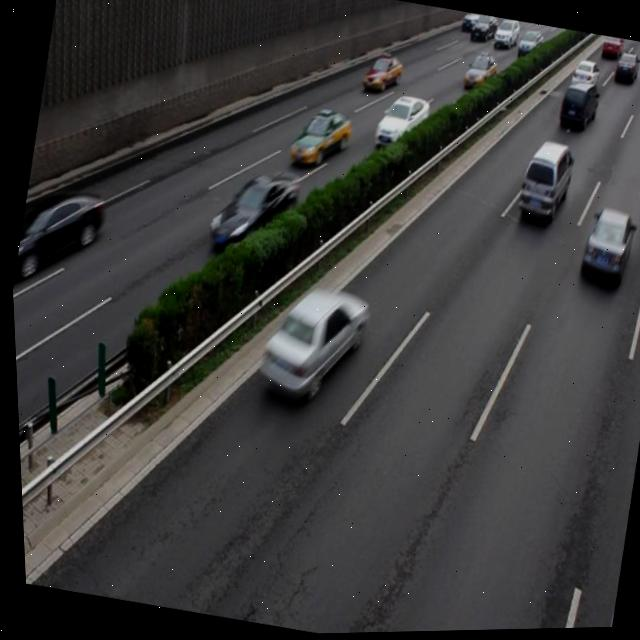car: (245, 276, 370, 414), (8, 180, 109, 295), (201, 162, 301, 263), (573, 205, 635, 288), (283, 103, 352, 175), (368, 91, 431, 161), (358, 50, 404, 100)
truck: (509, 137, 576, 228)
